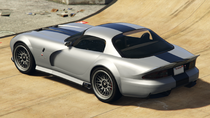car: (14, 18, 199, 104)
